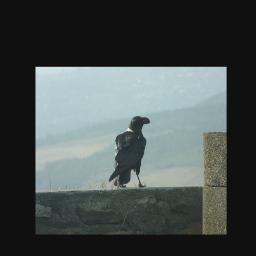Crow: (108, 115, 152, 188)
